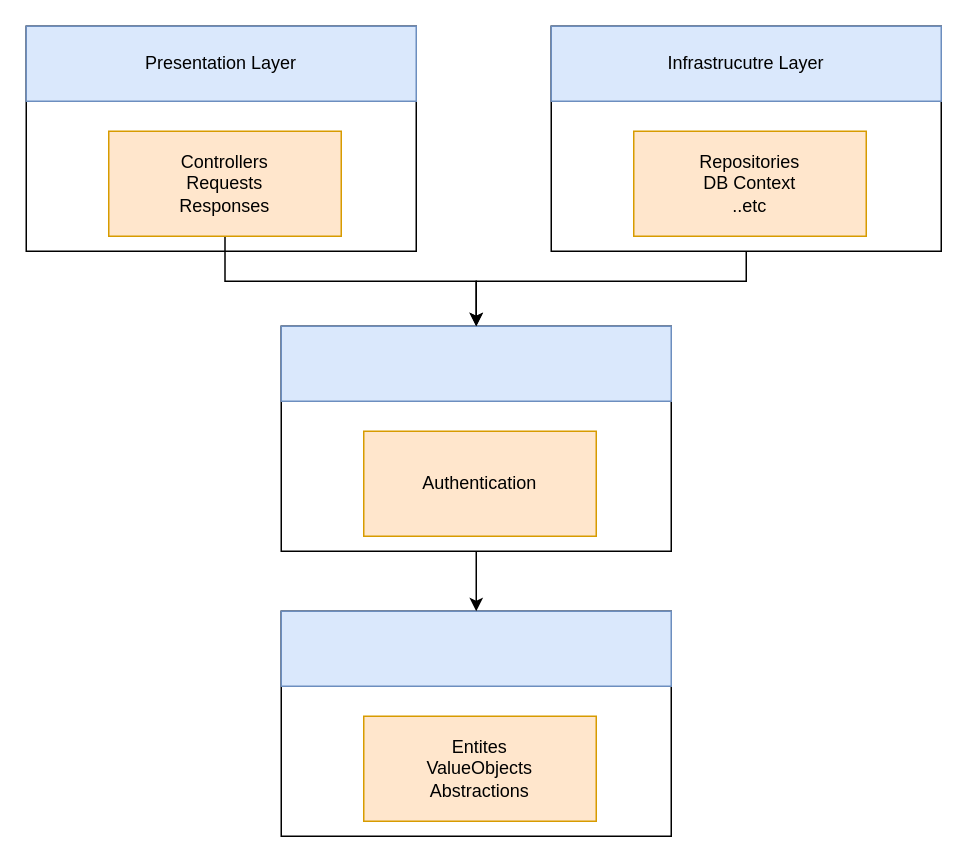
The diagram is 968 pixels wide and 863 high, and some of its shapes have lost their labels. The shapes that lost their labels are listed below. From the top down, each one's centre as x and y in pixels, then its label:
the point at 475,363: Application Layer
the point at 475,648: Domain Layer
